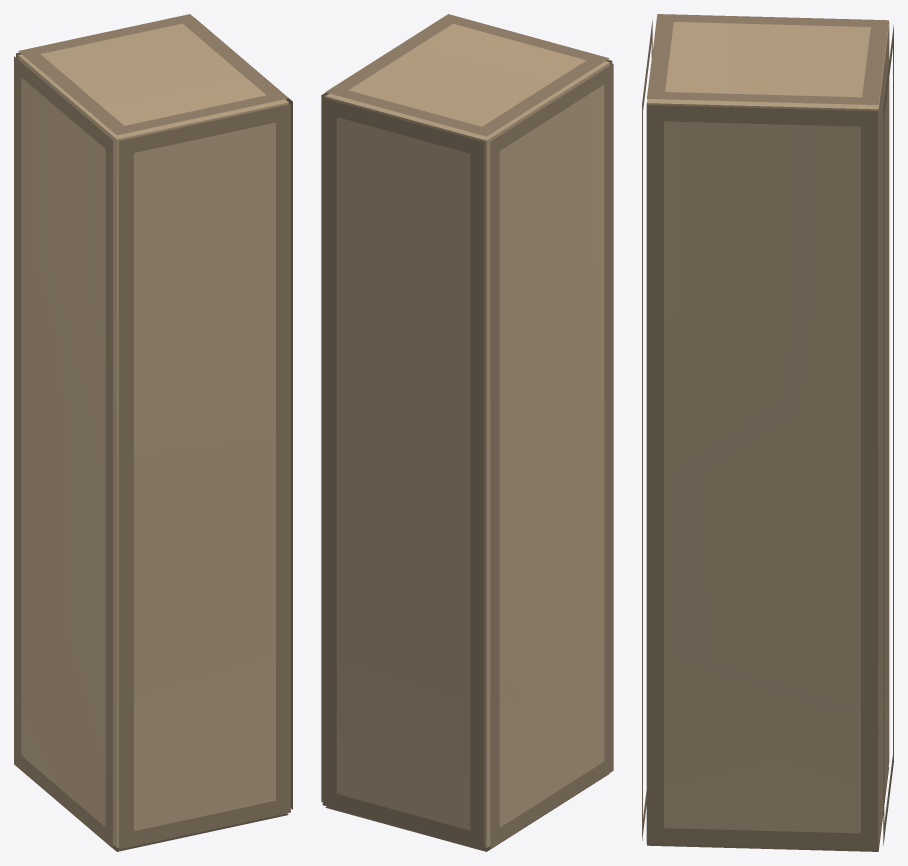
File: key.glb
3 views of the same model, side by side, from view 1: azimuth 30°, elevation 25°; view 2: azimuth 150°, elevation 25°; view 3: azimuth 270°, elevation 25° (orthographic). The views are drawn at different scales.
Visible parts, largest first — view 1: key; view 2: key; view 3: key.
Part boxes in pixels (<box>): key: <box>14,14,292,851</box>; key: <box>321,14,613,851</box>; key: <box>642,14,893,851</box>.
Size of the model in its own units: 0.0193 by 0.0708 by 0.0216.
